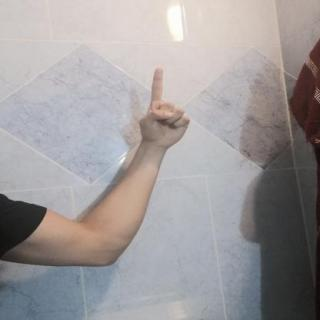BAA: (130, 62, 196, 152)
